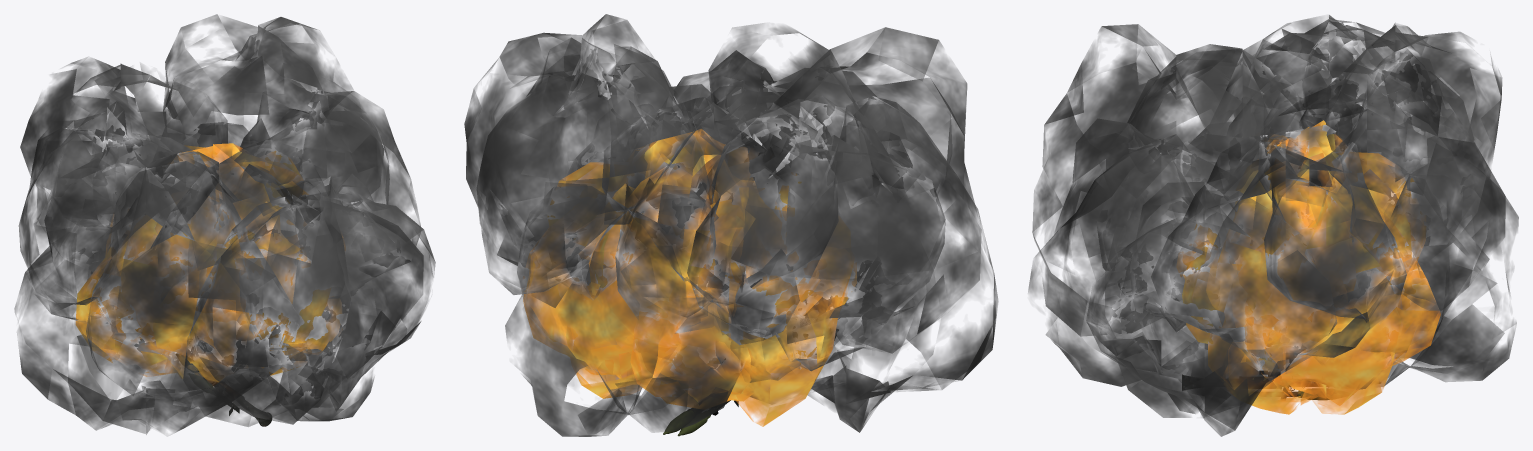
The model's file is rpg.glb.
The picture shows the model from 3 angles, left to right: view 1: azimuth 30°, elevation 25°; view 2: azimuth 150°, elevation 25°; view 3: azimuth 270°, elevation 25°; orthographic projection. The views are drawn at different scales.
Visible parts, largest first — view 1: Rpg_Blast_smoke, Rpg_Blast_fire; view 2: Rpg_Blast_smoke, Rpg_Blast_fire; view 3: Rpg_Blast_smoke, Rpg_Blast_fire.
Boxes of the visible parts, x1,y1,x2,y2 form: Rpg_Blast_smoke: [14, 14, 435, 434]; Rpg_Blast_fire: [75, 143, 341, 383]; Rpg_Blast_smoke: [464, 14, 998, 436]; Rpg_Blast_fire: [523, 129, 856, 426]; Rpg_Blast_smoke: [1028, 15, 1518, 436]; Rpg_Blast_fire: [1177, 120, 1440, 414].
Bounding box in the file's own units: 4.07 × 3.3 × 3.89.
7 materials, 6 textured.
